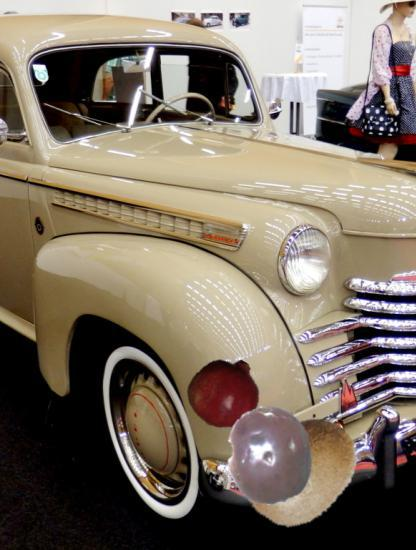Kiwi: (239, 411, 362, 534)
Passion: (220, 405, 320, 505)
Pomegranate: (188, 356, 261, 429)
